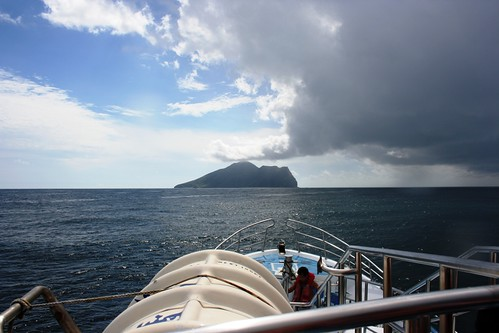turtleIsland: (171, 160, 300, 192)
